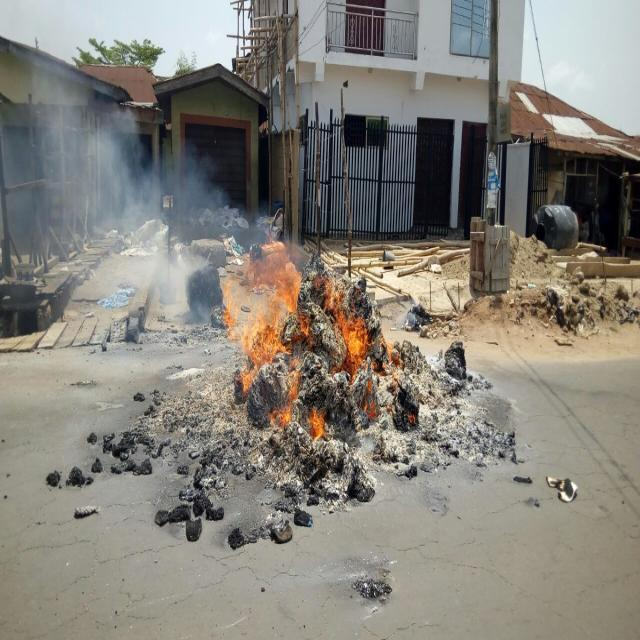Fire: (230, 251, 298, 381), (340, 312, 369, 378)
Smoke: (58, 123, 198, 286)
